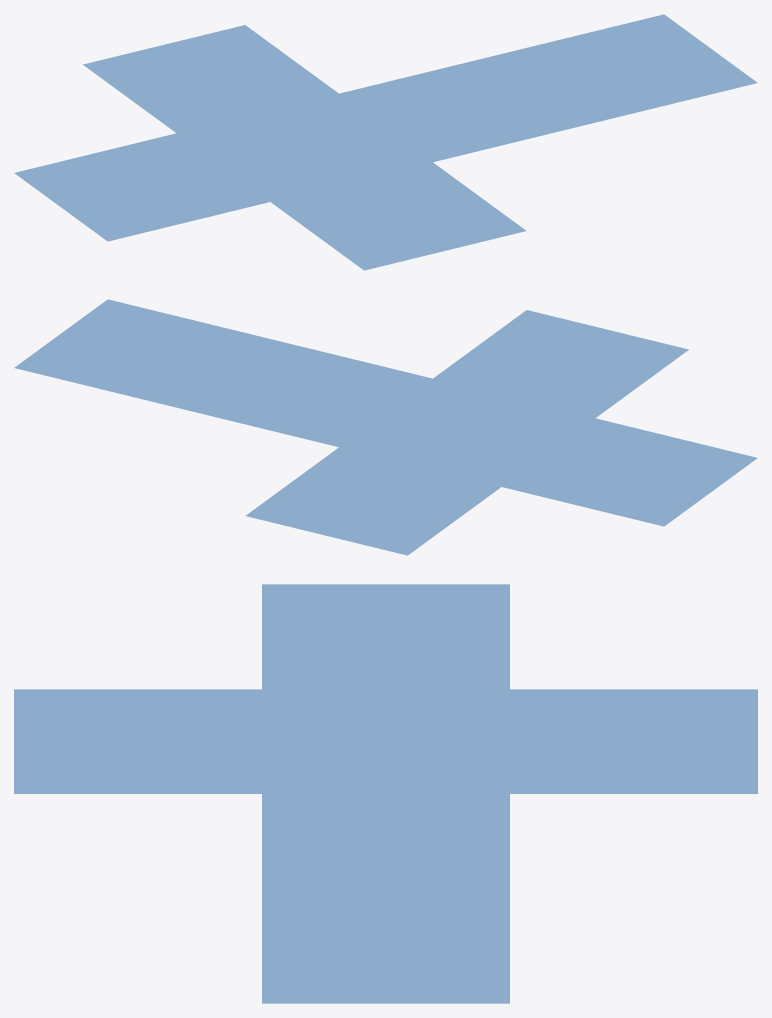
The model's file is diorama.glb.
3 renders of one model, top to bottom at view 1: azimuth 30°, elevation 25°; view 2: azimuth 150°, elevation 25°; view 3: azimuth 270°, elevation 25°, orthographic. The views are drawn at different scales.
Parts seen in each view (by area): view 1: terrain; view 2: terrain; view 3: terrain.
Boxes of the visible parts, x1,y1,x2,y2 form: terrain: (14, 14, 757, 270); terrain: (14, 299, 757, 555); terrain: (14, 584, 757, 1003).
Bounding box in the file's own units: 8 × 0 × 6.
